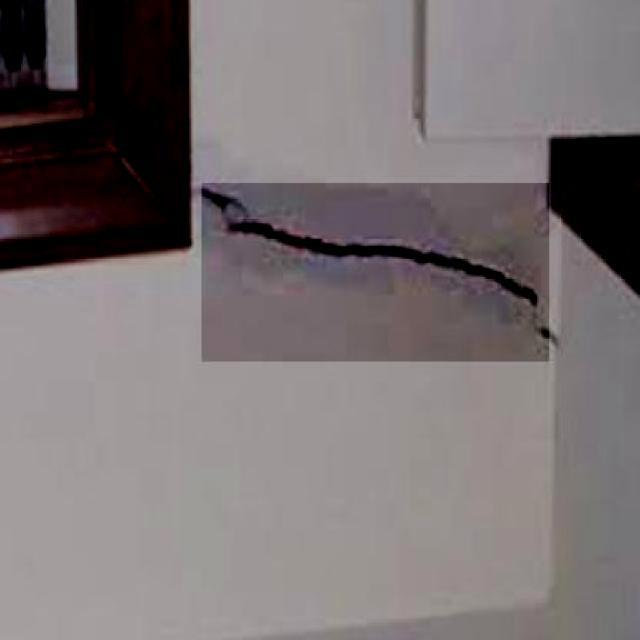SurfaceCrack: (200, 152, 584, 364)
